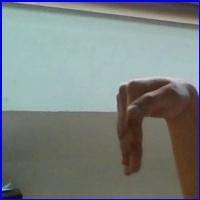del: (114, 72, 194, 180)
